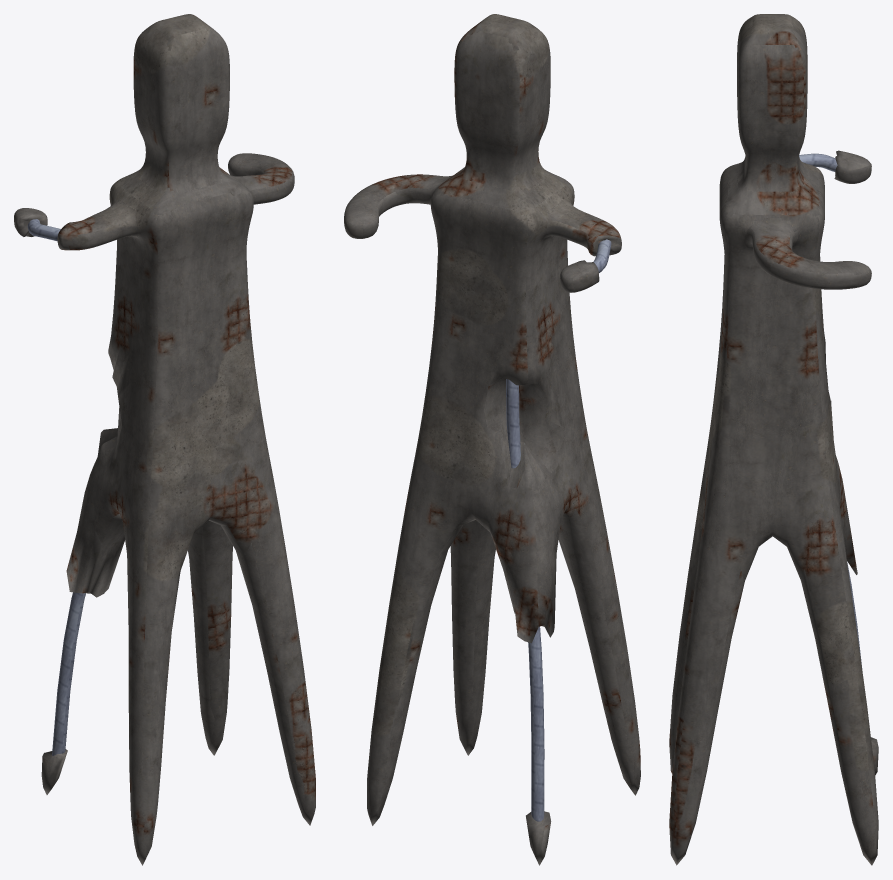
Rendered from Scp173.gltf.
3 renders of one model, left to right at view 1: azimuth 30°, elevation 25°; view 2: azimuth 150°, elevation 25°; view 3: azimuth 270°, elevation 25°, orthographic. The views are drawn at different scales.
Visible parts, largest first — view 1: Cube, BézierCurve; view 2: Cube, BézierCurve; view 3: Cube, BézierCurve.
Part boxes in pixels (x1,y1,x2,y2): Cube: [14, 14, 315, 865]; BézierCurve: [27, 219, 85, 755]; Cube: [344, 14, 640, 865]; BézierCurve: [506, 239, 611, 821]; Cube: [669, 14, 878, 865]; BézierCurve: [799, 153, 862, 668].
Size of the model in its own units: 0.9056 by 2.67 by 0.6297.
1 material, 1 textured.
